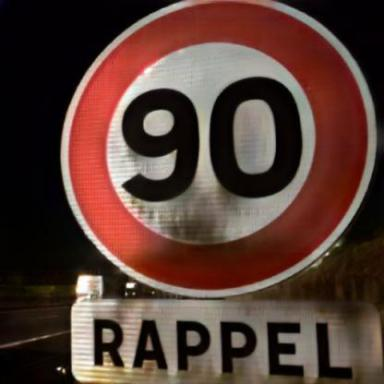Speed_limit_90: (67, 6, 368, 288)
